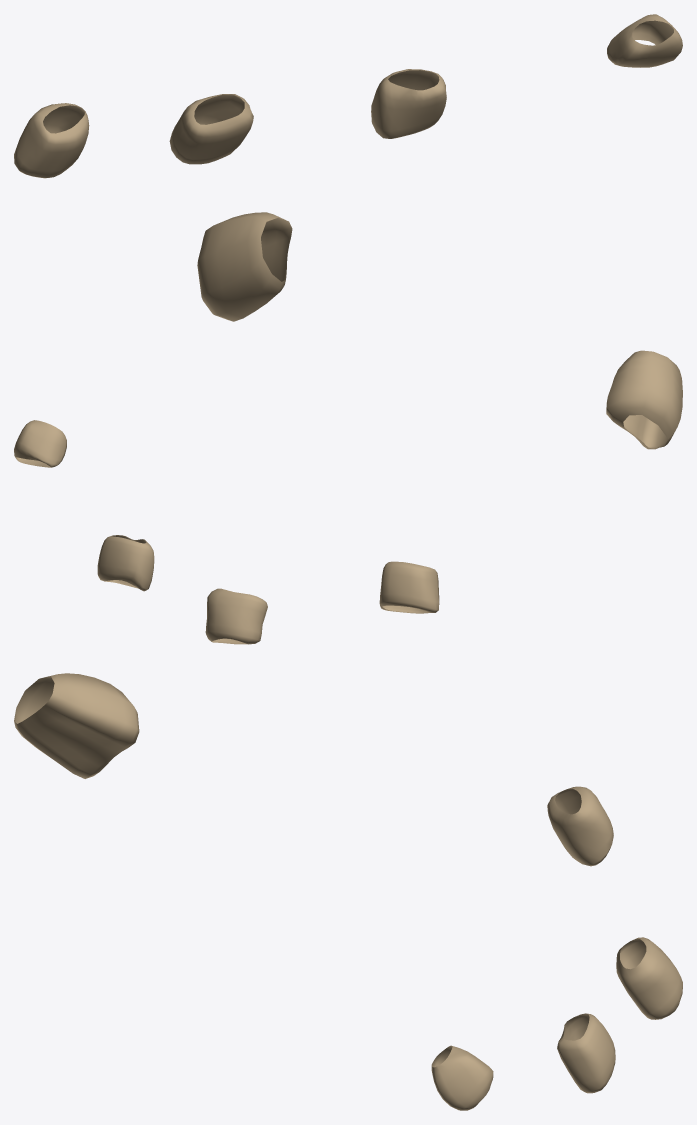
3 views of the same model, one above another, from view 1: azimuth 30°, elevation 25°; view 2: azimuth 150°, elevation 25°; view 3: azimuth 270°, elevation 25° (orthographic). The views are drawn at different scales.
Visible parts, largest first — view 1: 右侧手远侧指间关节囊; view 2: 右侧手远侧指间关节囊; view 3: 右侧手远侧指间关节囊.
Boxes of the visible parts, bbox=[...] form: 右侧手远侧指间关节囊: bbox=[14, 14, 682, 321]; 右侧手远侧指间关节囊: bbox=[14, 350, 682, 644]; 右侧手远侧指间关节囊: bbox=[14, 673, 682, 1110].
Size of the model in its own units: 0.1552 by 0.0487 by 0.1353.
